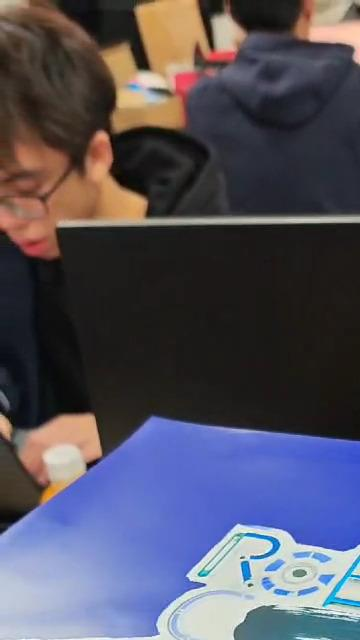B_R1: (5, 509, 360, 640)
